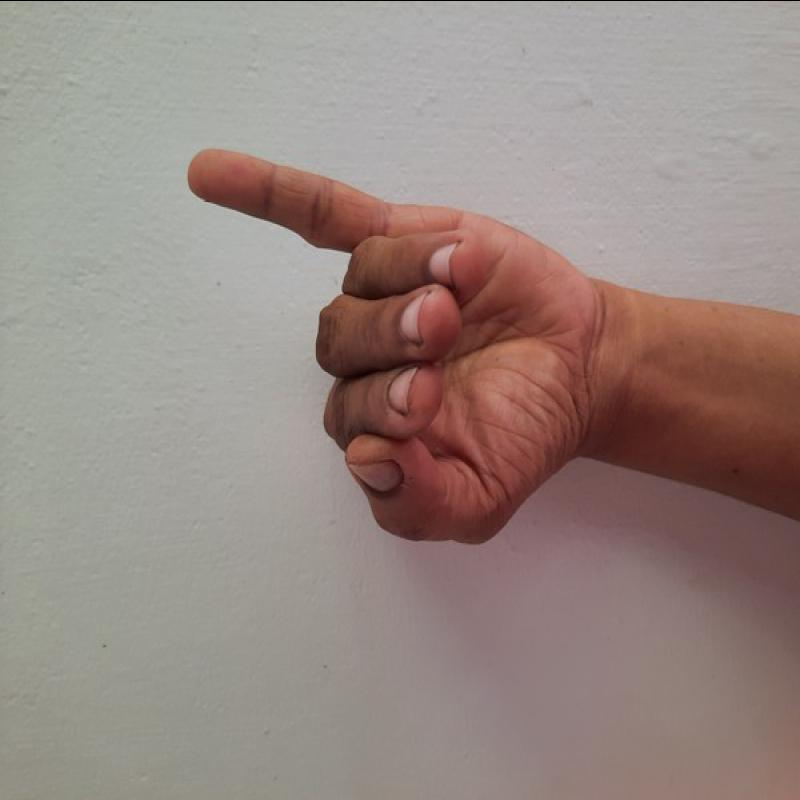Kartharee Mukham: (172, 119, 594, 555)
